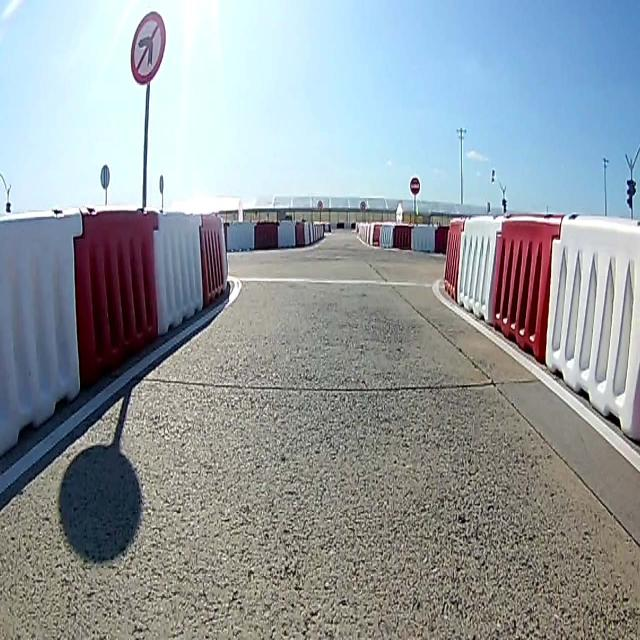girisyok: (409, 175, 421, 195)
soladonulmez: (128, 9, 168, 83)
